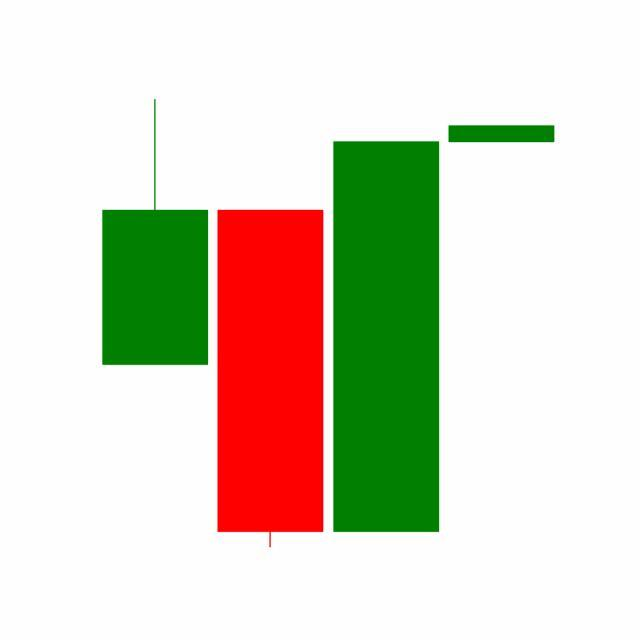Marubozu: (329, 137, 445, 536)
